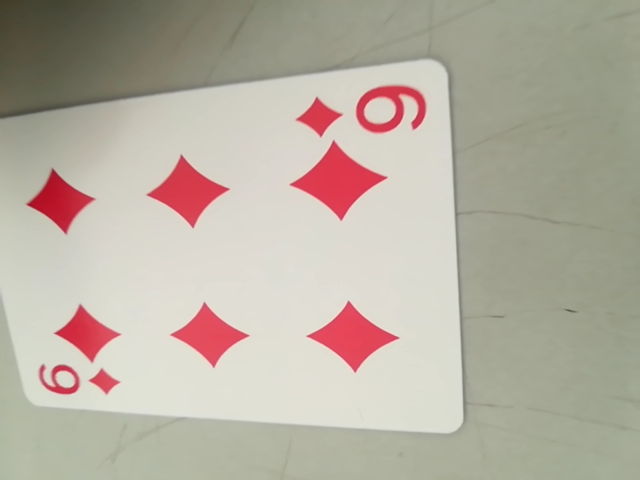fk 6: (297, 76, 433, 145), (29, 358, 120, 405)
